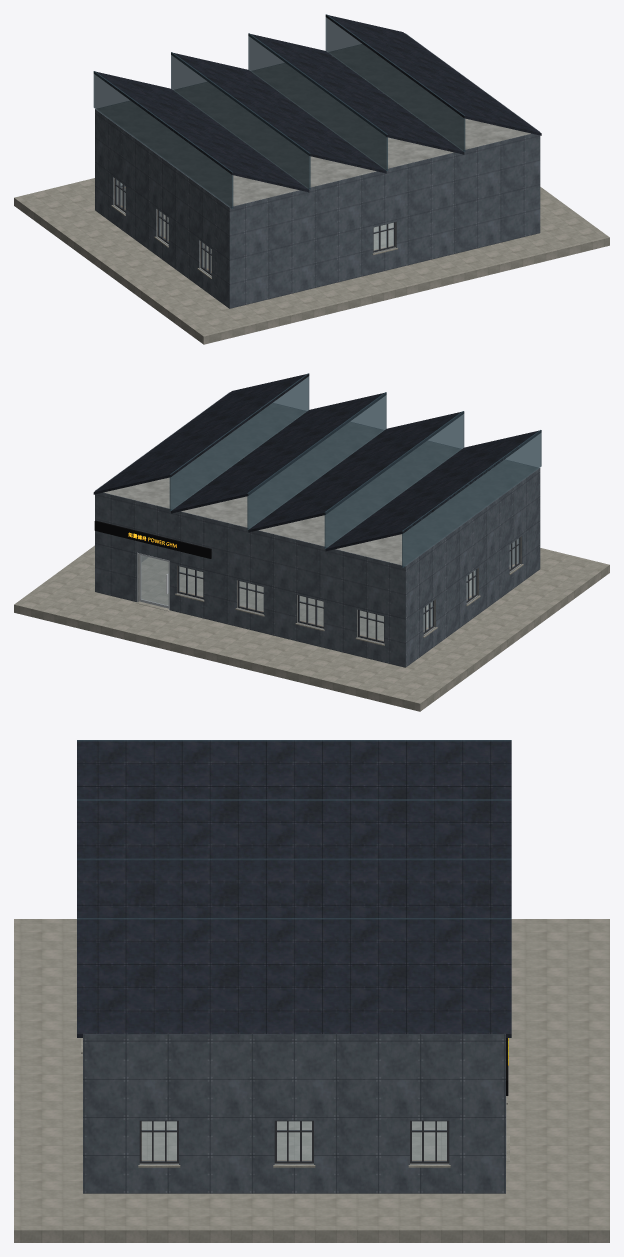
File: b_power_gym.gltf
3 views of the same model, one above another, from view 1: azimuth 30°, elevation 25°; view 2: azimuth 150°, elevation 25°; view 3: azimuth 270°, elevation 25° (orthographic). The views are drawn at different scales.
Parts seen in each view (by area): view 1: S_power_gym; view 2: S_power_gym, D_power_gym_F1_S4_Door0; view 3: S_power_gym.
Part boxes in pixels (box(x1,y1,x2,y2)): S_power_gym: box(14, 14, 609, 344); S_power_gym: box(14, 373, 609, 711); D_power_gym_F1_S4_Door0: box(139, 554, 168, 608); S_power_gym: box(14, 740, 609, 1242).
Size of the model in its own units: 21 by 7.2 by 17.
17 materials, 8 textured.
